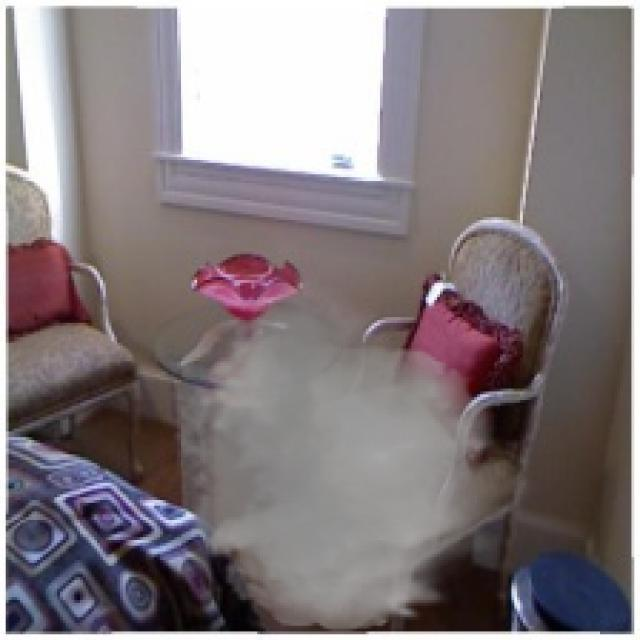Smoke: (157, 277, 543, 637)
